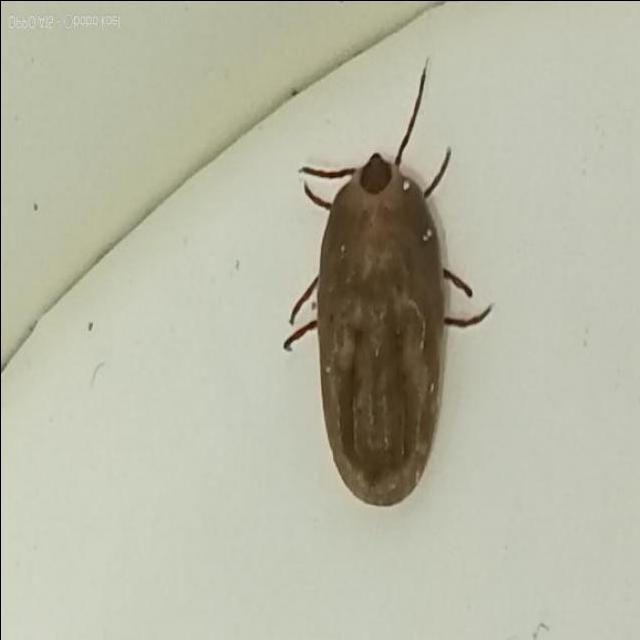Rhipicephalus Sanguineus-F-Fed: (283, 50, 484, 504)
